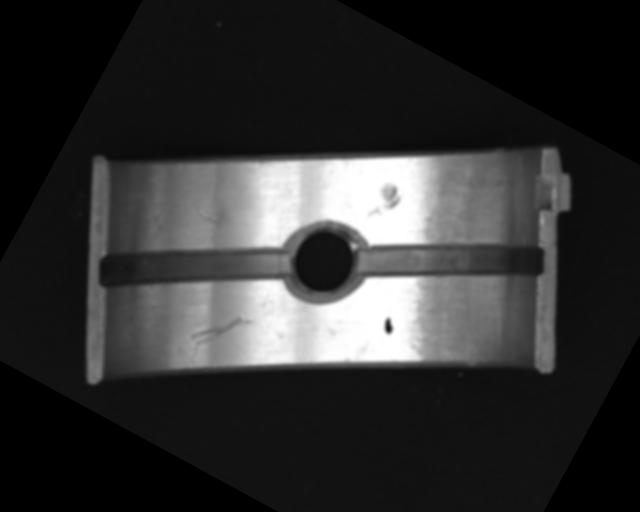blot: (380, 315, 397, 335)
bruise: (365, 178, 407, 228)
gap: (90, 174, 296, 359), (353, 173, 553, 348)
hole: (268, 208, 375, 314)
nick: (187, 295, 254, 364), (193, 205, 222, 227)
